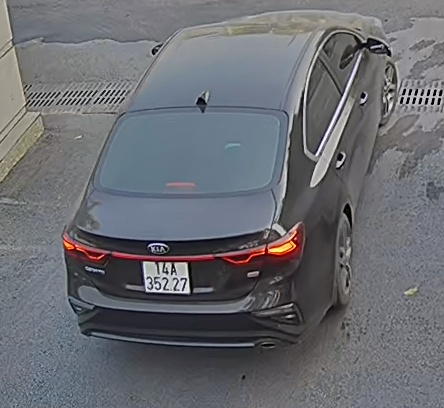vehicle plate: (137, 254, 194, 297)
